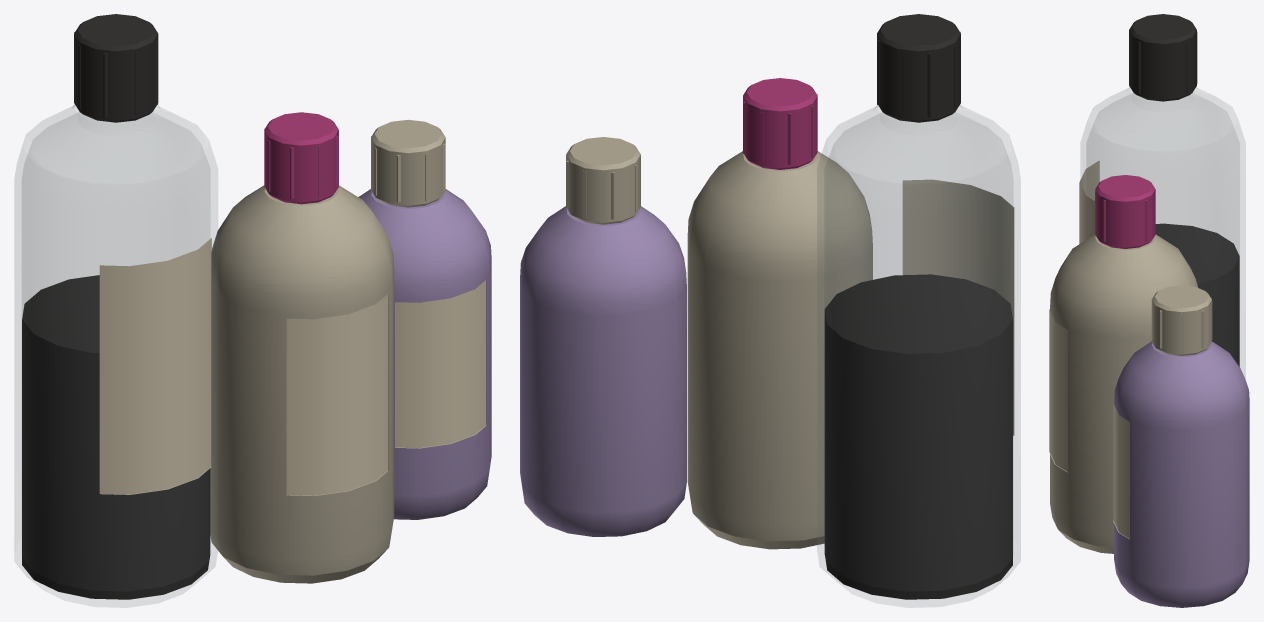
The model's file is bottles-small-61d1b32ec595.glb.
3 views of the same model, side by side, from view 1: azimuth 30°, elevation 25°; view 2: azimuth 150°, elevation 25°; view 3: azimuth 270°, elevation 25° (orthographic). The views are drawn at different scales.
Parts seen in each view (by area): view 1: glass-clear, paper, plastic-light, enamel-black, accent-lilac, plastic-dark, accent-magenta; view 2: glass-clear, plastic-light, enamel-black, accent-lilac, paper, plastic-dark, accent-magenta; view 3: accent-lilac, plastic-light, glass-clear, paper, plastic-dark, enamel-black, accent-magenta.
Boxes of the visible parts, x1,y1,x2,y2 form: glass-clear: [15, 104, 217, 607]; paper: [99, 238, 486, 495]; plastic-light: [210, 119, 445, 583]; enamel-black: [22, 275, 210, 599]; accent-lilac: [358, 189, 491, 519]; plastic-dark: [74, 14, 158, 122]; accent-magenta: [264, 112, 338, 204]; glass-clear: [817, 104, 1020, 607]; plastic-light: [566, 137, 872, 549]; enamel-black: [824, 274, 1012, 599]; accent-lilac: [520, 206, 686, 536]; paper: [902, 179, 1014, 435]; plastic-dark: [877, 14, 960, 122]; accent-magenta: [743, 78, 817, 169]; accent-lilac: [1114, 341, 1249, 607]; plastic-light: [1050, 234, 1212, 553]; glass-clear: [1081, 87, 1245, 378]; paper: [1049, 161, 1129, 539]; plastic-dark: [1129, 14, 1197, 101]; enamel-black: [1155, 223, 1239, 366]; accent-magenta: [1095, 175, 1155, 248].
Size of the model in its own units: 0.115 by 0.128 by 0.0532.
